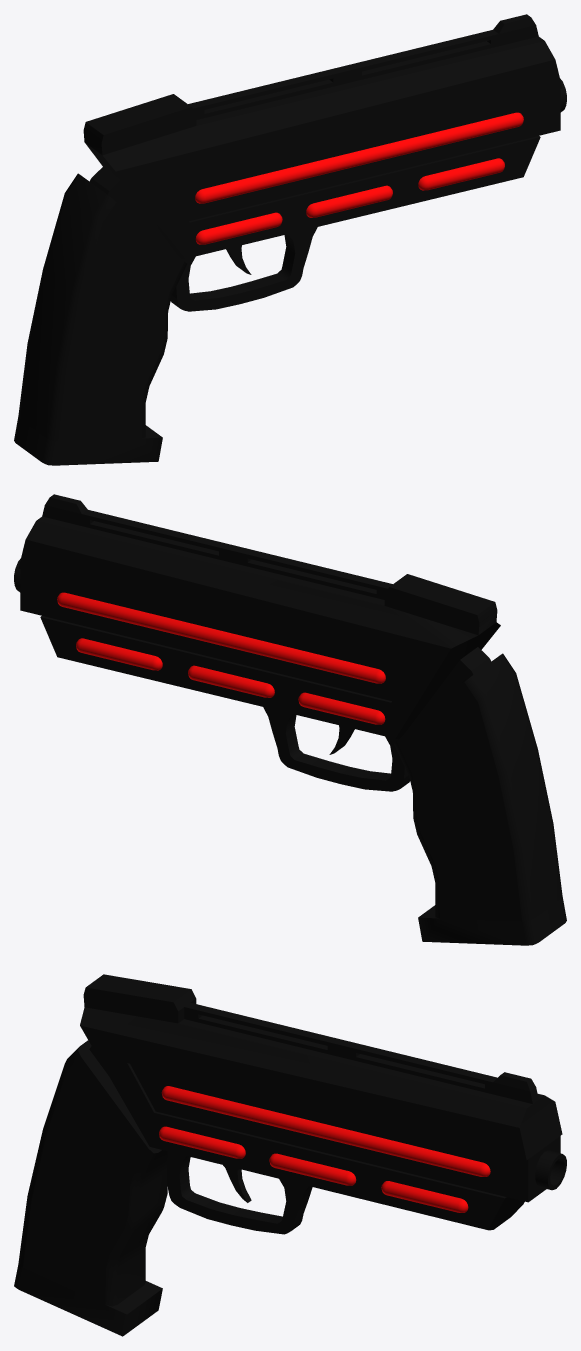
File: laser_pistol_1.FBX
The picture shows the model from 3 angles, top to bottom: view 1: azimuth 30°, elevation 25°; view 2: azimuth 150°, elevation 25°; view 3: azimuth 330°, elevation 25°; orthographic projection.
Parts seen in each view (by area): view 1: laser_pistol_1; view 2: laser_pistol_1; view 3: laser_pistol_1.
Part boxes in pixels (box(x1,y1,x2,y2)): laser_pistol_1: box(14, 14, 566, 465); laser_pistol_1: box(14, 494, 566, 945); laser_pistol_1: box(14, 974, 566, 1336).
Bounding box in the file's own units: 34.18 × 20.84 × 4.88.
